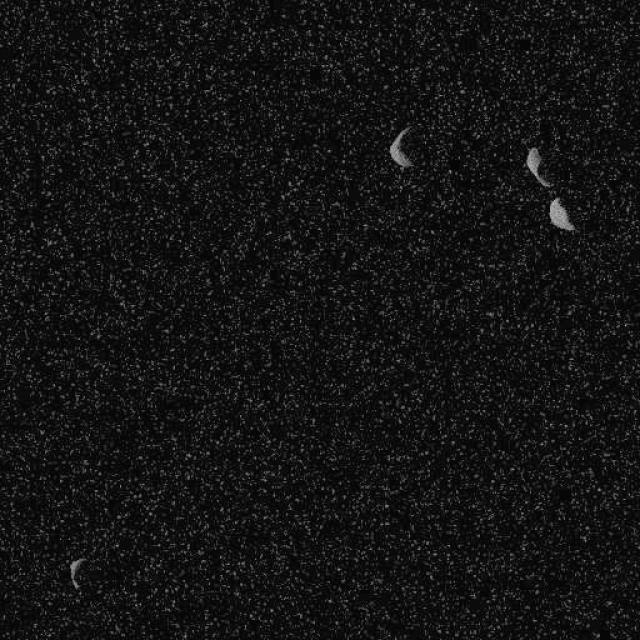D2: (524, 145, 554, 189), (387, 124, 415, 168), (546, 196, 575, 232), (68, 556, 86, 589)
